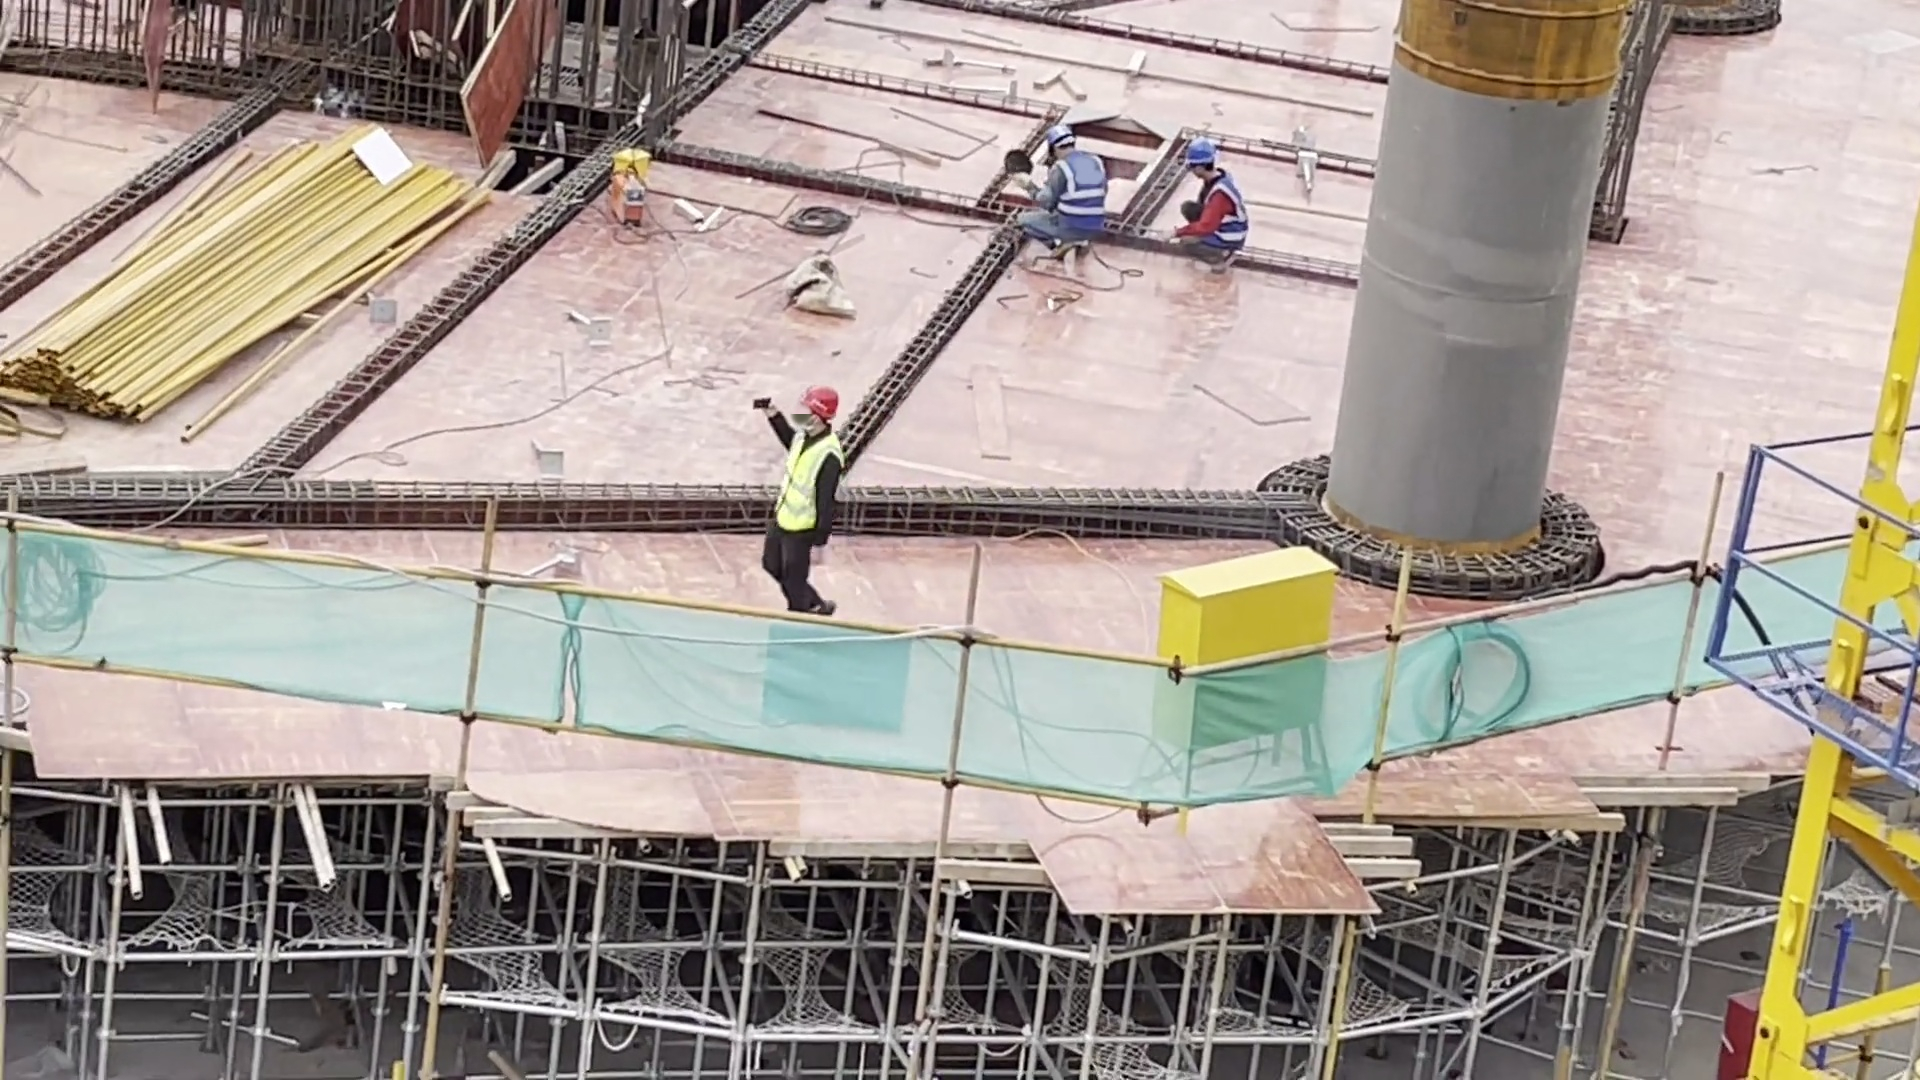ebox: (1148, 543, 1335, 836)
helmet: (801, 384, 839, 423), (1182, 137, 1218, 168), (1046, 123, 1076, 152)
person: (744, 381, 848, 626), (1004, 112, 1109, 272), (1169, 137, 1253, 276)
vest: (771, 425, 840, 534), (1049, 152, 1109, 241), (1192, 174, 1256, 251)
